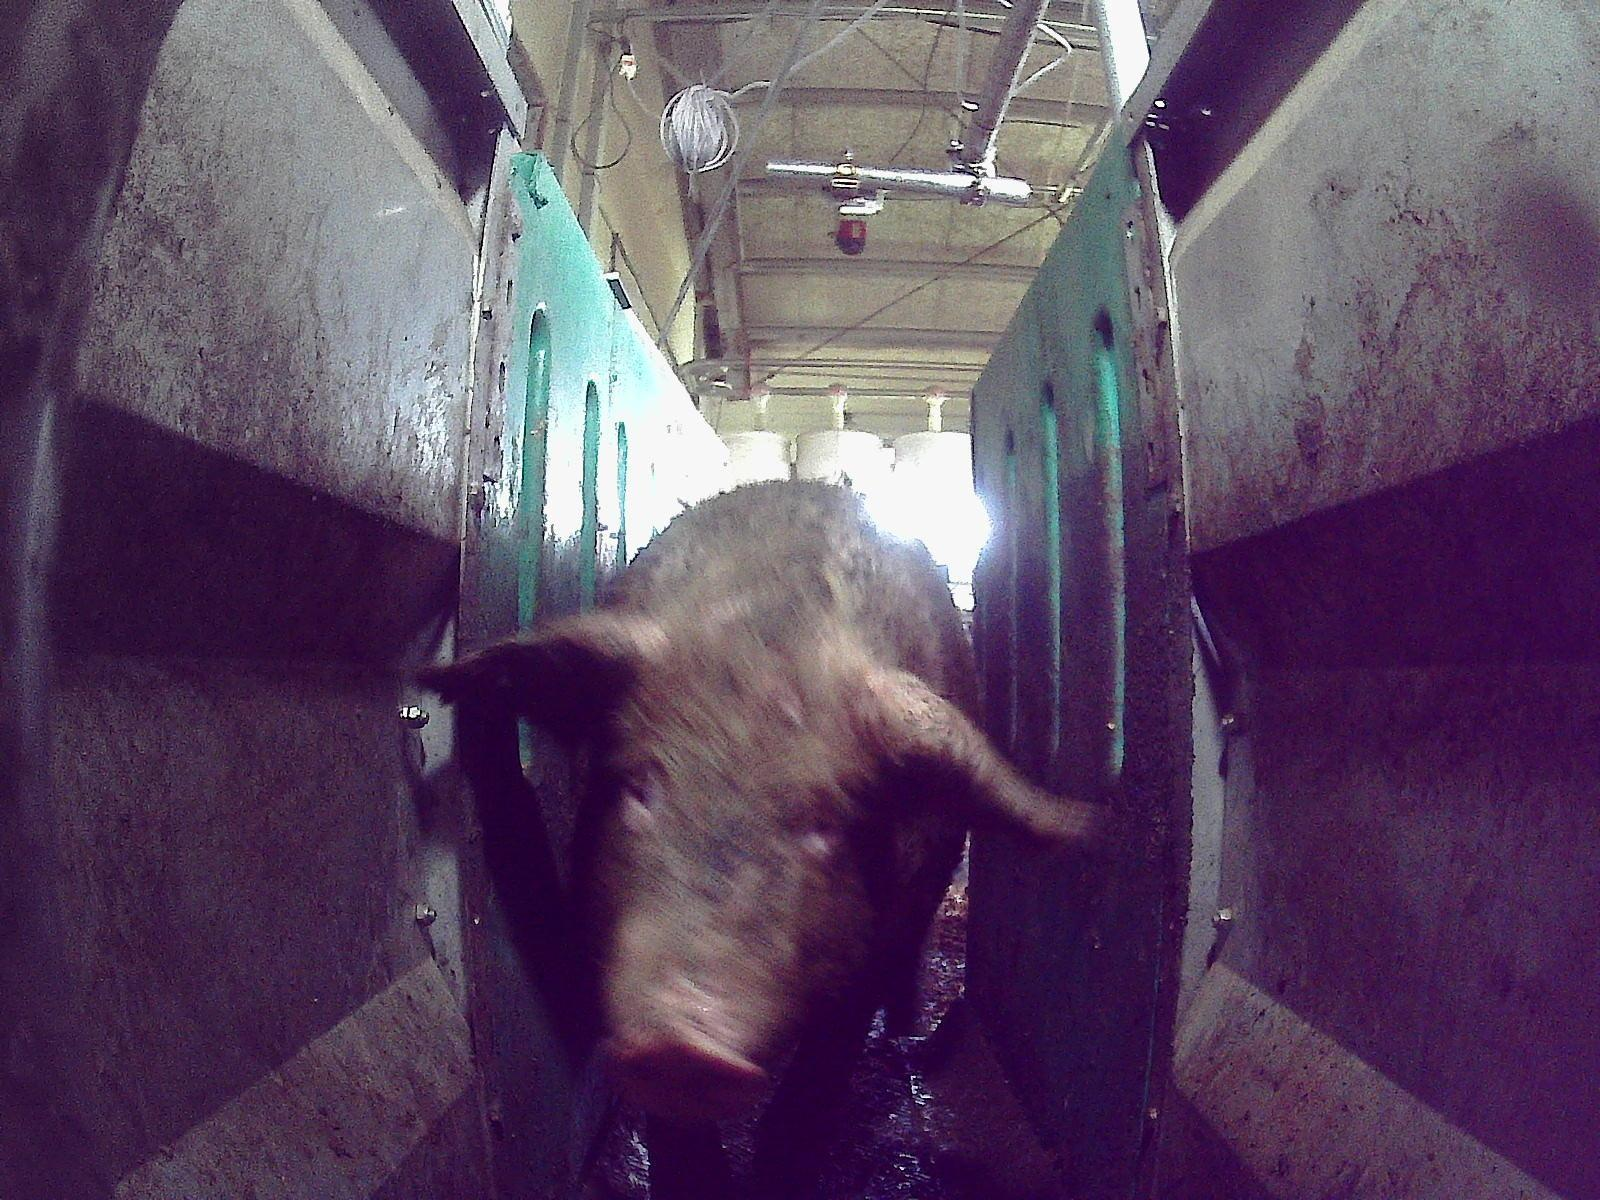Face: (564, 624, 913, 1128)
